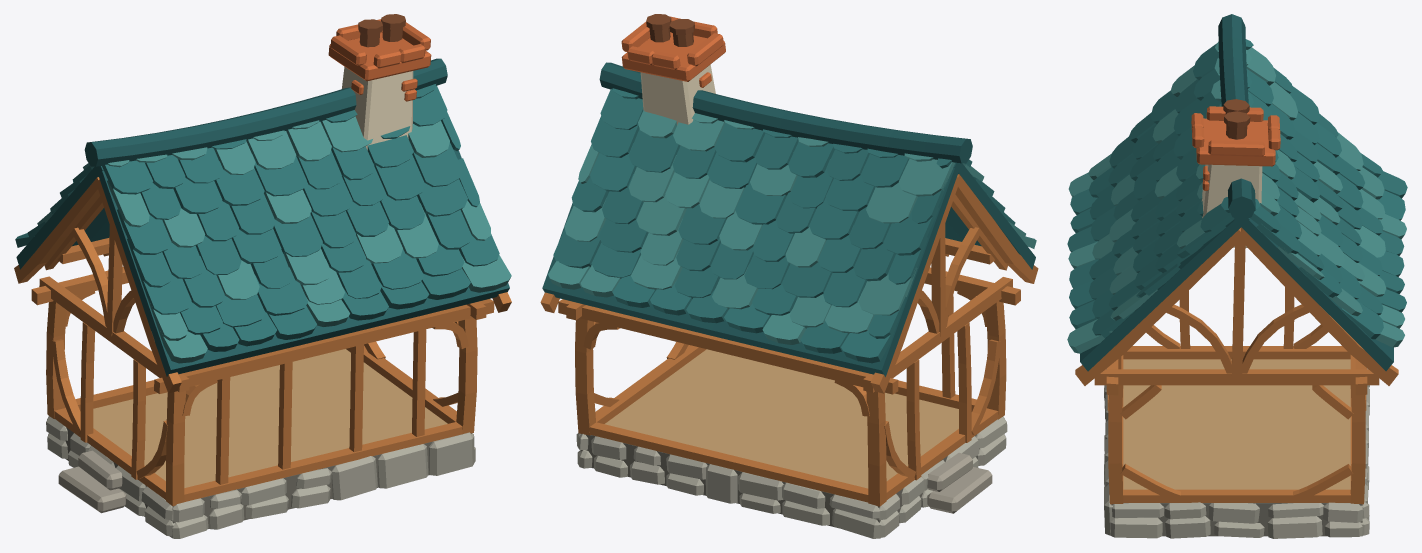
Rendered from roof.glb.
3 renders of one model, left to right at view 1: azimuth 30°, elevation 25°; view 2: azimuth 150°, elevation 25°; view 3: azimuth 270°, elevation 25°, orthographic.
Parts seen in each view (by area): view 1: roof_shingles, timber_frame, floor, roof_shingles_light, foundation_stones, roof_deck, roof_ridge, chimney_cap, barge_boards, chimney, door_step, chimney_pots (+2 smaller); view 2: roof_shingles, timber_frame, roof_shingles_light, floor, foundation_stones, roof_deck, roof_ridge, chimney_cap, barge_boards, door_step, chimney, chimney_pots (+2 smaller); view 3: roof_shingles, floor, timber_frame, roof_shingles_light, foundation_stones, roof_deck, barge_boards, chimney_cap, roof_ridge, chimney, chimney_pots, foundation_core.
Part boxes in pixels (x1,y1,x2,y2): roof_shingles: [15, 84, 499, 351]; timber_frame: [31, 225, 494, 506]; floor: [93, 349, 447, 487]; roof_shingles_light: [37, 116, 511, 363]; foundation_stones: [46, 416, 475, 538]; roof_deck: [16, 149, 509, 376]; roof_ridge: [84, 58, 447, 166]; chimney_cap: [328, 19, 431, 81]; barge_boards: [14, 177, 511, 393]; chimney: [342, 66, 413, 150]; door_step: [58, 450, 126, 513]; chimney_pots: [358, 14, 405, 47]; roof_shingles: [553, 88, 1015, 363]; timber_frame: [558, 224, 1020, 506]; roof_shingles_light: [548, 110, 1036, 344]; floor: [604, 349, 958, 488]; foundation_stones: [576, 416, 1007, 538]; roof_deck: [542, 162, 1035, 376]; roof_ridge: [599, 62, 972, 163]; chimney_cap: [621, 16, 725, 81]; barge_boards: [540, 174, 1038, 393]; door_step: [927, 452, 992, 513]; chimney: [640, 64, 715, 125]; chimney_pots: [646, 14, 694, 46]; roof_shingles: [1067, 39, 1407, 339]; floor: [1123, 359, 1350, 489]; timber_frame: [1094, 240, 1379, 504]; roof_shingles_light: [1067, 41, 1406, 353]; foundation_stones: [1104, 368, 1369, 538]; roof_deck: [1080, 218, 1393, 371]; barge_boards: [1075, 228, 1398, 385]; chimney_cap: [1191, 106, 1280, 166]; roof_ridge: [1218, 14, 1255, 220]; chimney: [1201, 164, 1262, 247]; chimney_pots: [1223, 99, 1250, 139]; foundation_core: [1111, 503, 1362, 536].
Size of the model in its own units: 8.23 by 8.71 by 6.51.
